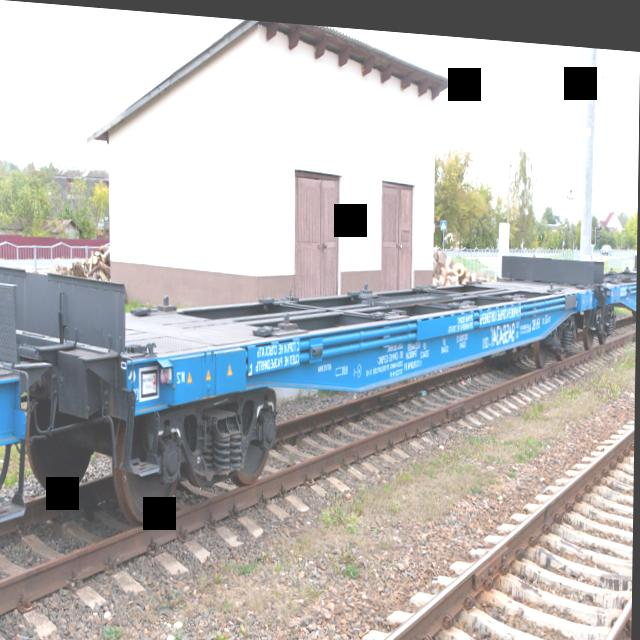flatcar: (23, 207, 599, 565), (594, 233, 638, 332)
